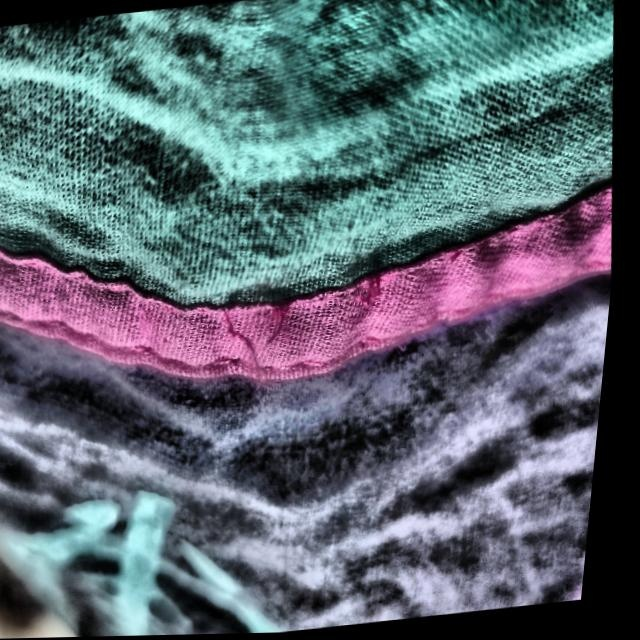Stitch: (180, 197, 329, 398), (320, 192, 424, 344)
